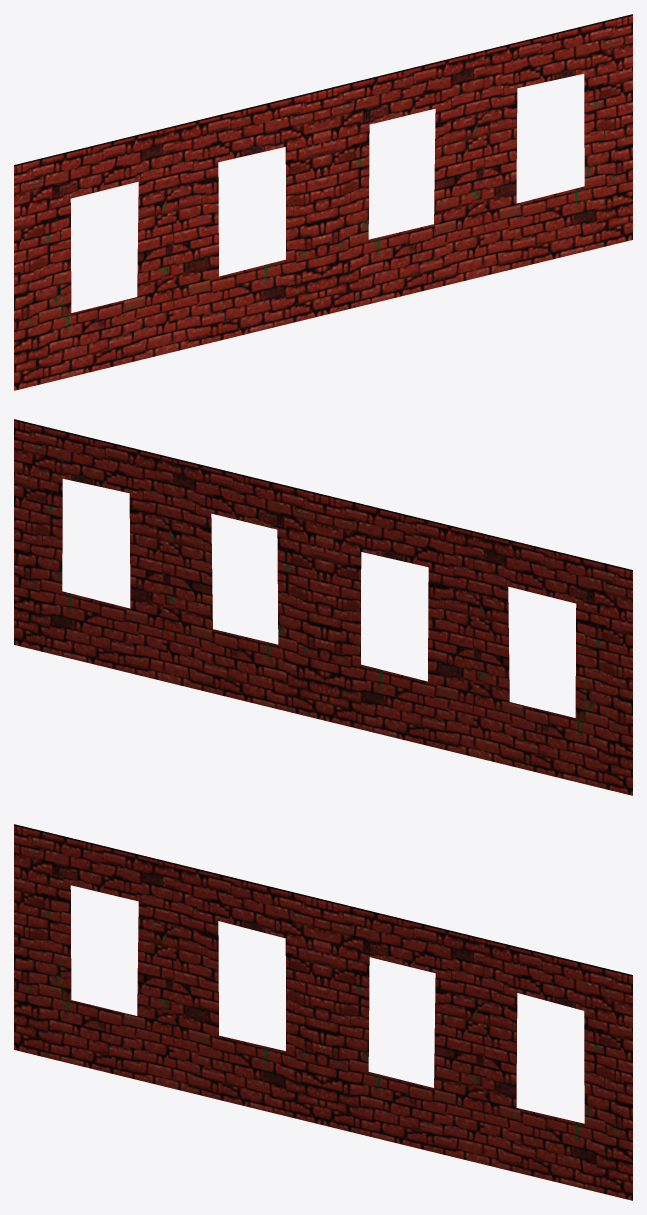
File: W_AI3_ffff [Ziegel]_645.glb
3 views of the same model, one above another, from view 1: azimuth 30°, elevation 25°; view 2: azimuth 150°, elevation 25°; view 3: azimuth 330°, elevation 25° (orthographic).
Visible parts, largest first — view 1: polySurfaceShape772; view 2: polySurfaceShape772; view 3: polySurfaceShape772.
Boxes of the visible parts, <box> form: polySurfaceShape772: <box>14,14,632,390</box>; polySurfaceShape772: <box>14,419,632,795</box>; polySurfaceShape772: <box>14,824,632,1200</box>.
Size of the model in its own units: 1 by 0.3486 by 1.52e-08.
Materials: 1 (1 with a texture image).
